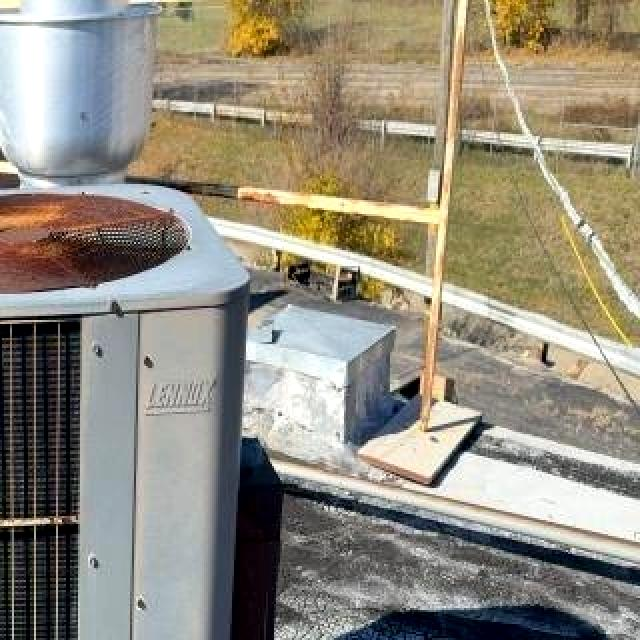SPLIT-SYSTEM: (0, 176, 272, 640)
